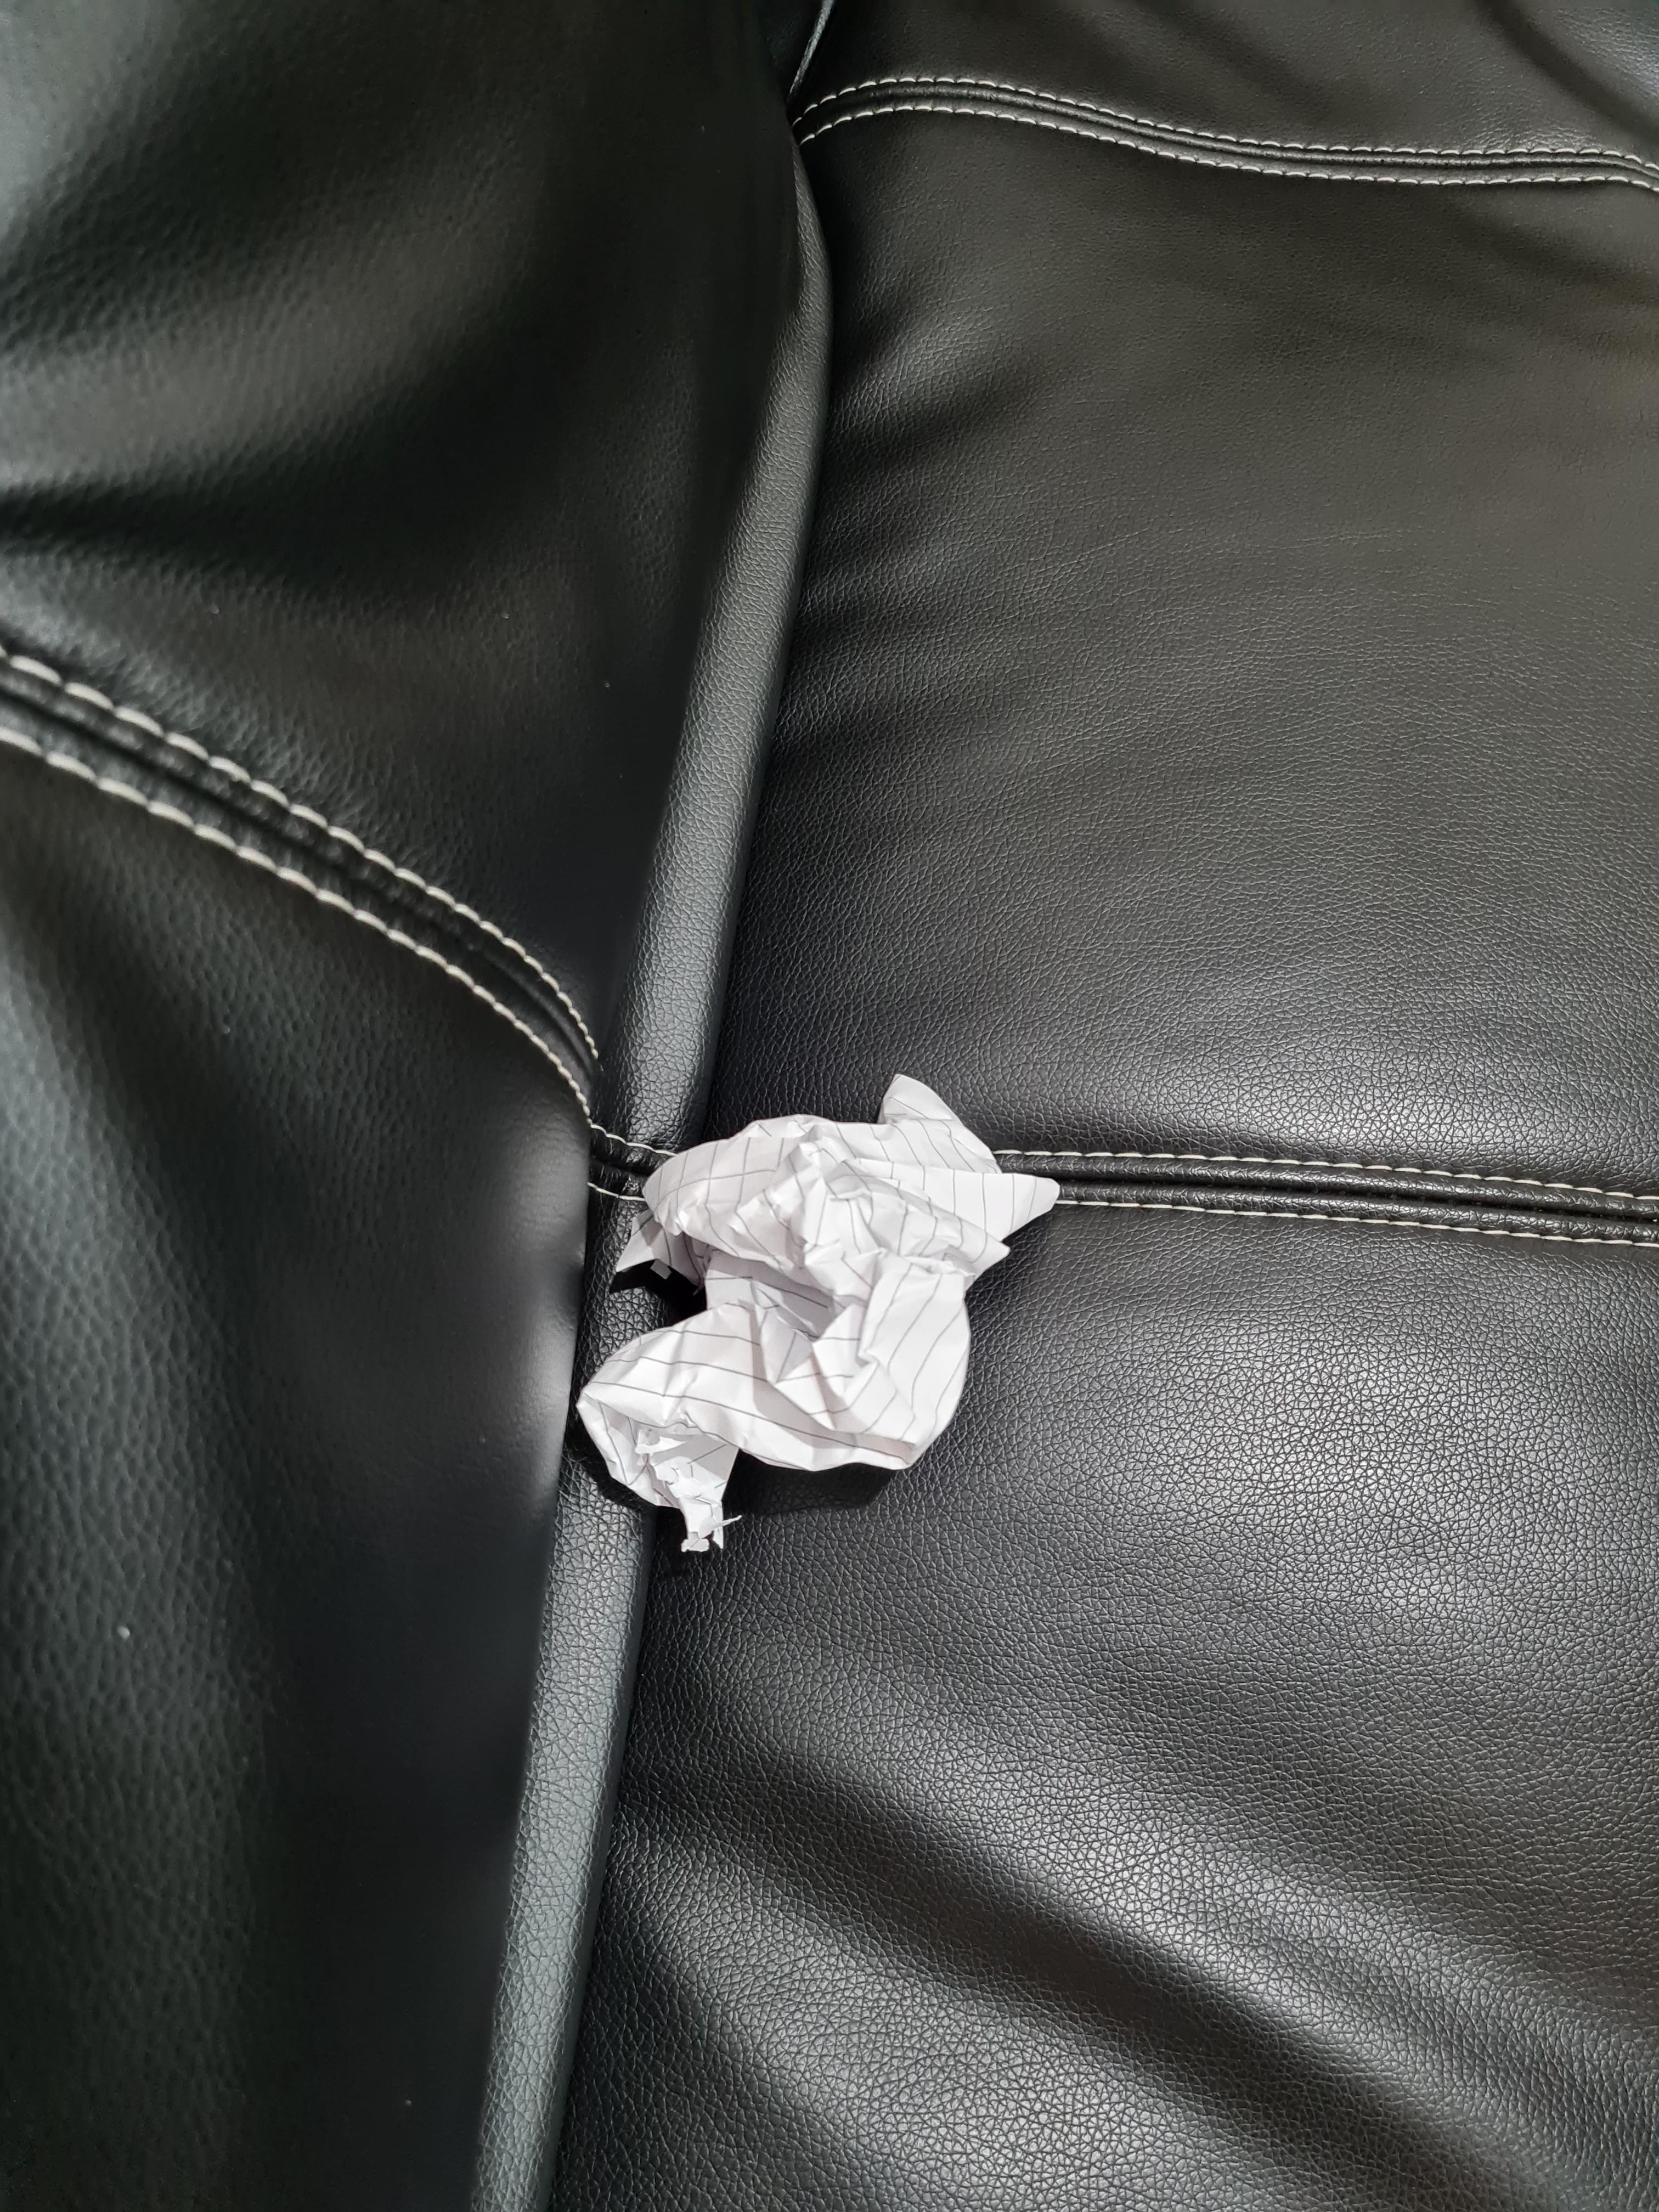Paper: (599, 1076, 1061, 1554)
